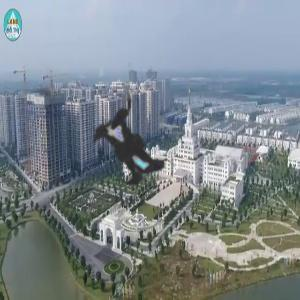drone: (38, 60, 225, 247)
